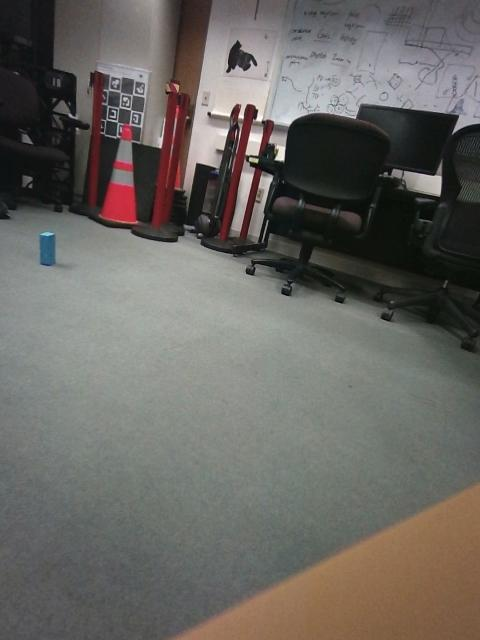block: (164, 346, 203, 420)
